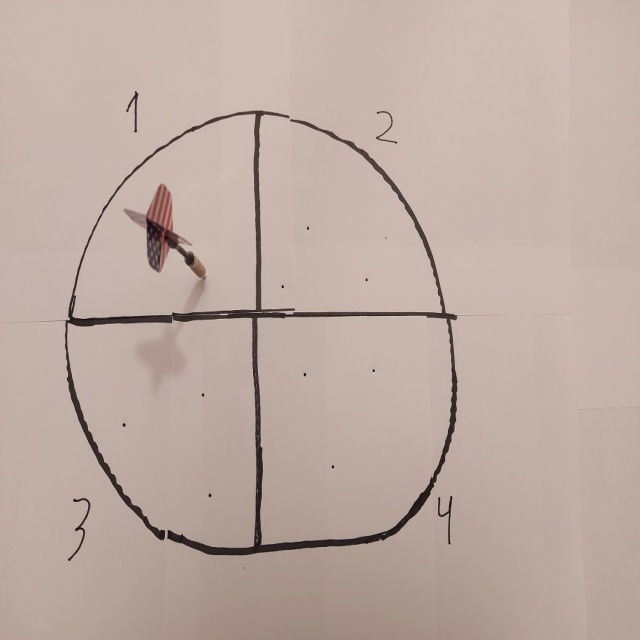Dart: (117, 176, 214, 288)
